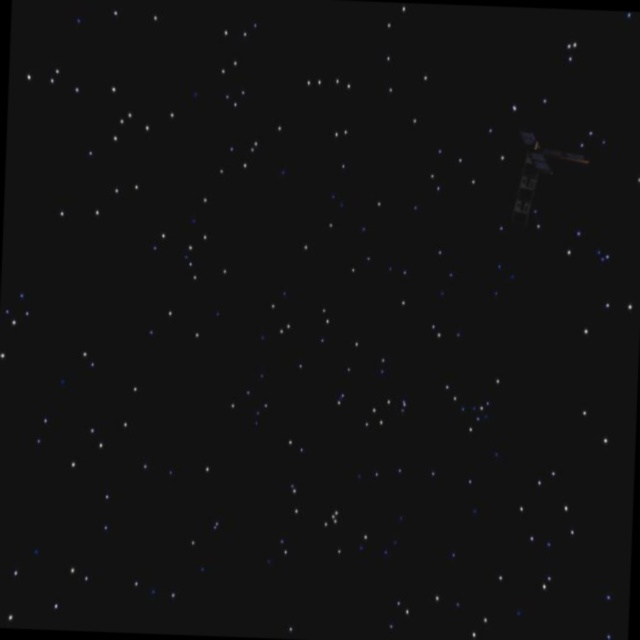satellite: (478, 127, 597, 234)
